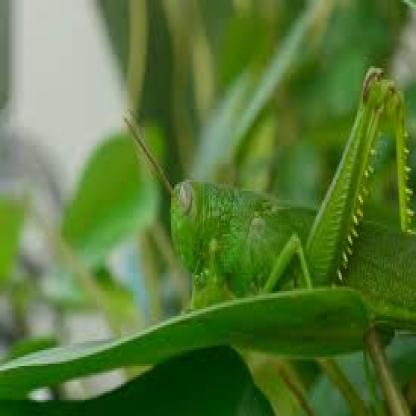grasshopper: (114, 68, 416, 307)
